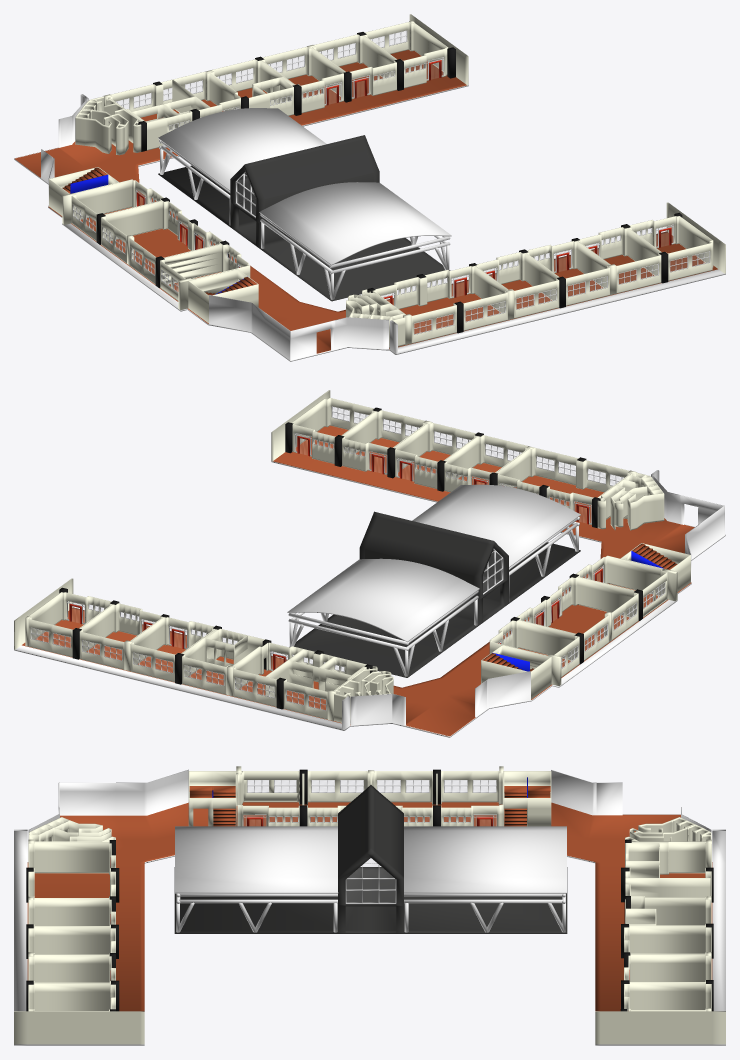
The model's file is Lantai 1.obj.
3 views of the same model, one above another, from view 1: azimuth 30°, elevation 25°; view 2: azimuth 150°, elevation 25°; view 3: azimuth 270°, elevation 25° (orthographic). The views are drawn at different scales.
Visible parts, largest first — view 1: Plaza_Supeno, Lantai_, IF_110, IF_105, Pillar, IF_107, IF_112, IF_101, IF_104, IF_102, IF_103, IF_113 (+8 smaller); view 2: Plaza_Supeno, Lantai_, IF_110, Pillar, IF_105, IF_107, IF_102, IF_111, IF_112, IF_113, IF_103, IF_101 (+8 smaller); view 3: Plaza_Supeno, Lantai_, IF_110, IF_107, Pillar, IF_106, IF_108, IF_105, Box540, IF_113, IF_101, IF_103 (+9 smaller).
Boxes of the visible parts, x1=… form: Plaza_Supeno: x1=158, y1=108, x2=451, y2=301; Lantai_: x1=14, y1=14, x2=725, y2=361; IF_110: x1=109, y1=59, x2=294, y2=150; IF_105: x1=372, y1=266, x2=507, y2=343; Pillar: x1=62, y1=20, x2=682, y2=345; IF_107: x1=101, y1=200, x2=222, y2=284; IF_112: x1=312, y1=34, x2=396, y2=98; IF_101: x1=628, y1=216, x2=713, y2=280; IF_104: x1=475, y1=252, x2=559, y2=318; IF_102: x1=577, y1=227, x2=661, y2=293; IF_103: x1=526, y1=241, x2=609, y2=305; IF_113: x1=364, y1=22, x2=448, y2=88; Plaza_Supeno: x1=287, y1=484, x2=580, y2=677; Lantai_: x1=14, y1=390, x2=725, y2=737; IF_110: x1=182, y1=628, x2=366, y2=719; Pillar: x1=25, y1=407, x2=677, y2=720; IF_105: x1=496, y1=447, x2=630, y2=524; IF_107: x1=517, y1=576, x2=638, y2=660; IF_102: x1=342, y1=410, x2=426, y2=474; IF_111: x1=130, y1=617, x2=214, y2=682; IF_112: x1=79, y1=603, x2=162, y2=669; IF_113: x1=28, y1=592, x2=112, y2=657; IF_103: x1=394, y1=422, x2=477, y2=488; IF_101: x1=291, y1=398, x2=374, y2=463; Plaza_Supeno: x1=174, y1=785, x2=567, y2=933; Lantai_: x1=14, y1=769, x2=725, y2=1045; IF_110: x1=625, y1=841, x2=711, y2=925; IF_107: x1=303, y1=771, x2=436, y2=826; Pillar: x1=26, y1=766, x2=713, y2=1011; IF_106: x1=237, y1=771, x2=303, y2=826; IF_108: x1=437, y1=771, x2=503, y2=826; IF_105: x1=28, y1=842, x2=115, y2=898; Box540: x1=503, y1=771, x2=551, y2=826; IF_113: x1=624, y1=982, x2=711, y2=1011; IF_101: x1=28, y1=983, x2=115, y2=1011; IF_103: x1=28, y1=926, x2=115, y2=954.
Bounding box in the file's own units: 67.23 × 10.59 × 82.08.
